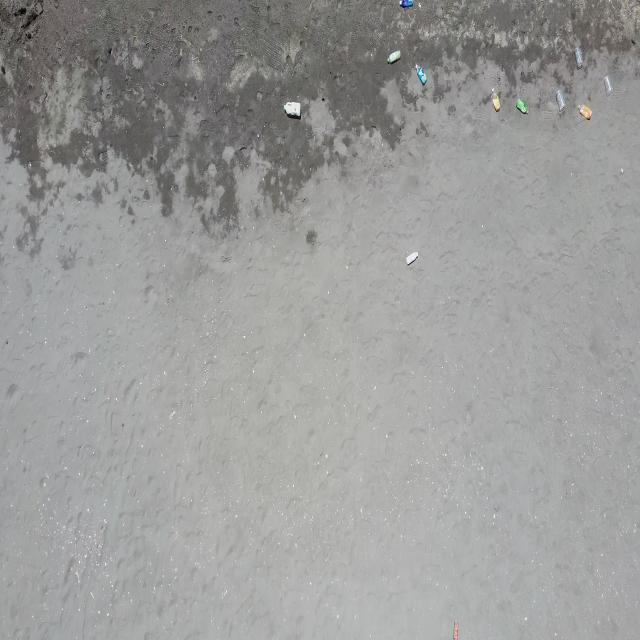plastic-bottle: (284, 100, 302, 119), (387, 50, 403, 66), (515, 97, 529, 115), (416, 61, 426, 85), (492, 88, 501, 113), (578, 104, 592, 120), (406, 249, 419, 266), (398, 0, 414, 8)
takeaway-cup: (556, 89, 565, 110), (575, 48, 583, 70), (605, 74, 612, 95)
